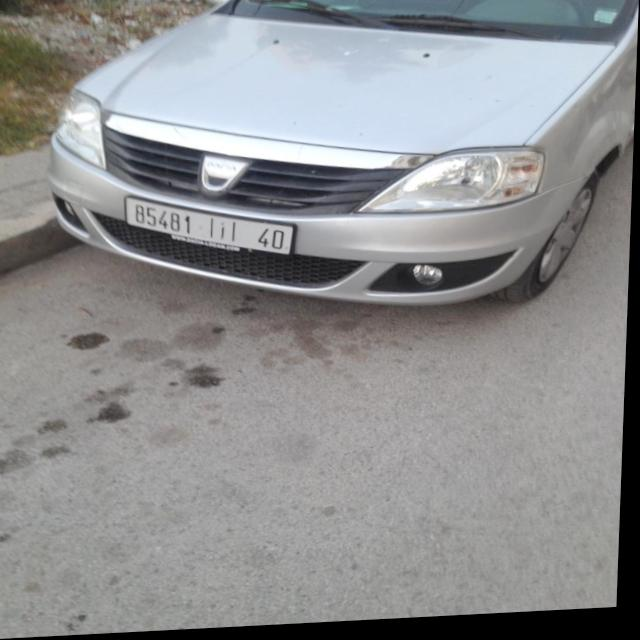License-Plate: (129, 200, 295, 258)
